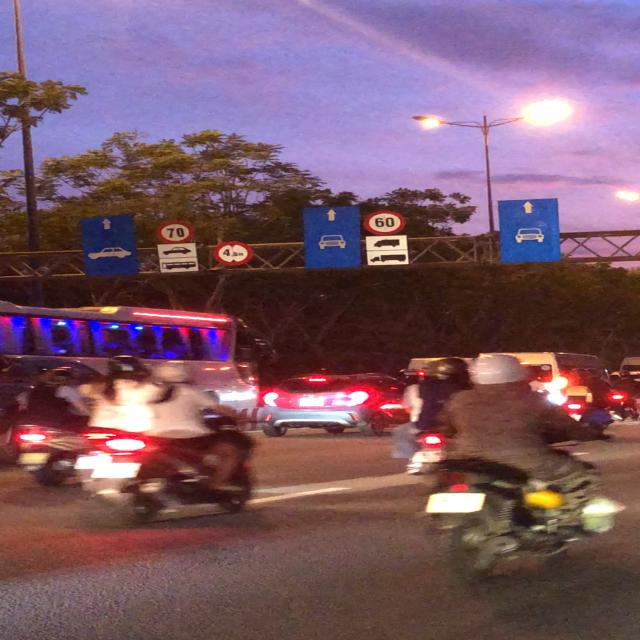Bien bao han che chieu cao: (212, 239, 258, 268)
Bien bao toc do toi da cho phep: (363, 208, 411, 236), (152, 220, 199, 246)
